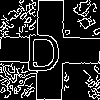D: (25, 25, 62, 71)
